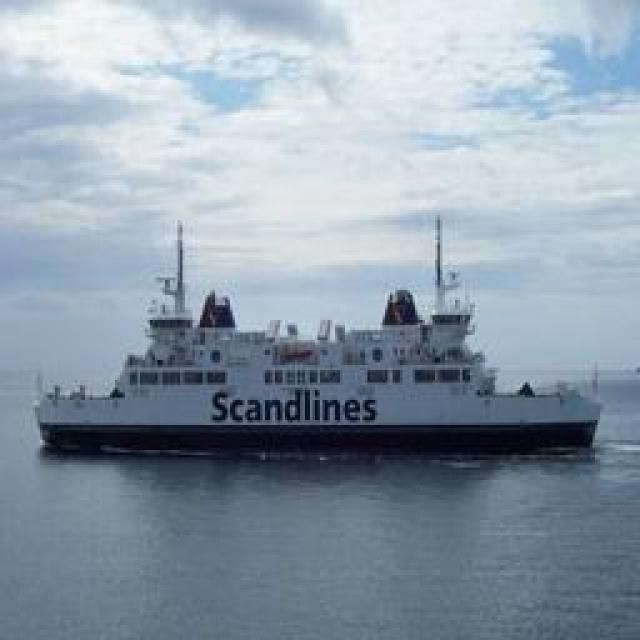CIV_Ship: (31, 212, 611, 452)
